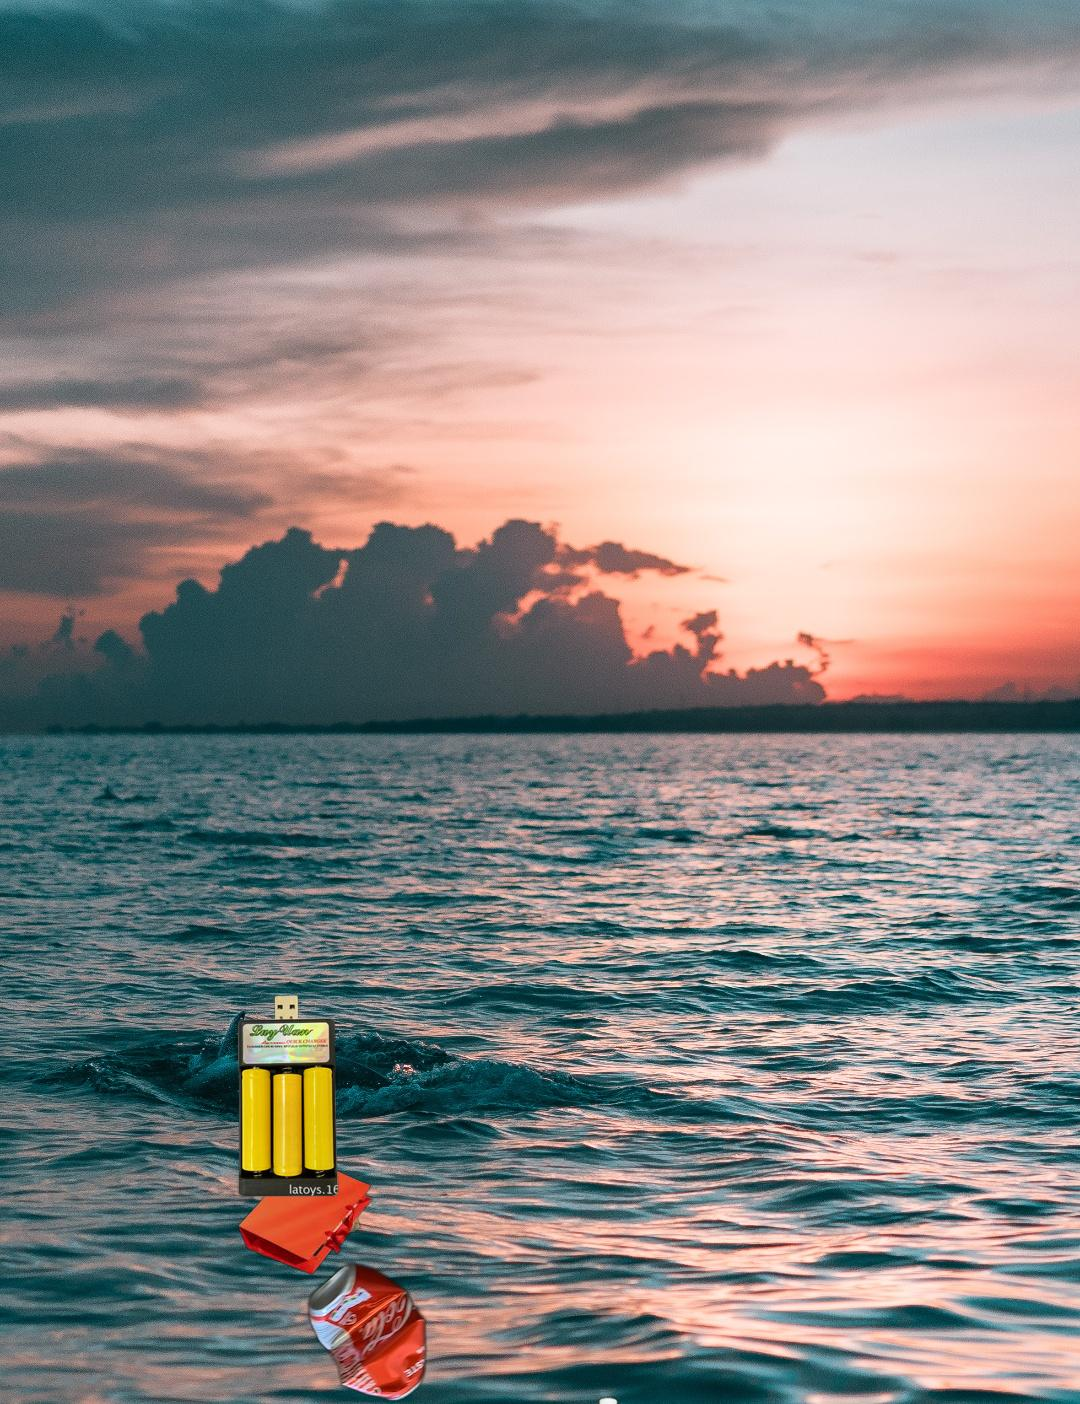battery: (235, 992, 341, 1199)
metal-cans: (303, 1257, 431, 1404), (1043, 484, 1080, 959)
paper-bag: (235, 1150, 376, 1277)
plastic-bottles: (566, 1392, 650, 1404)
